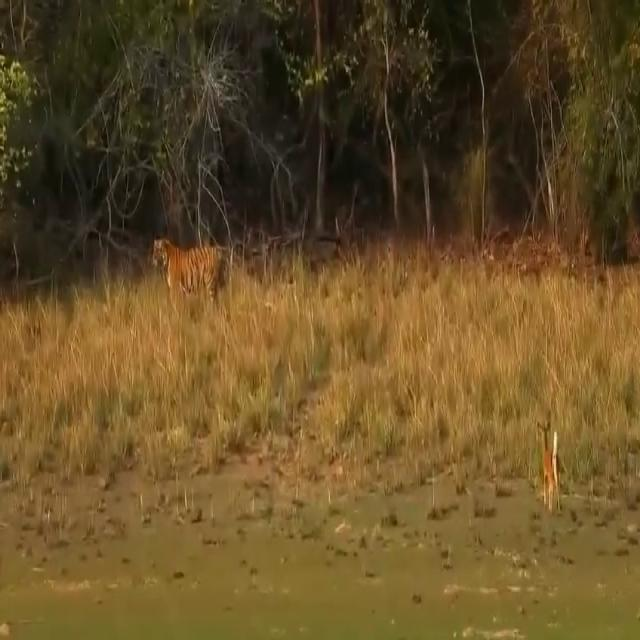tiger: (150, 237, 228, 308)
